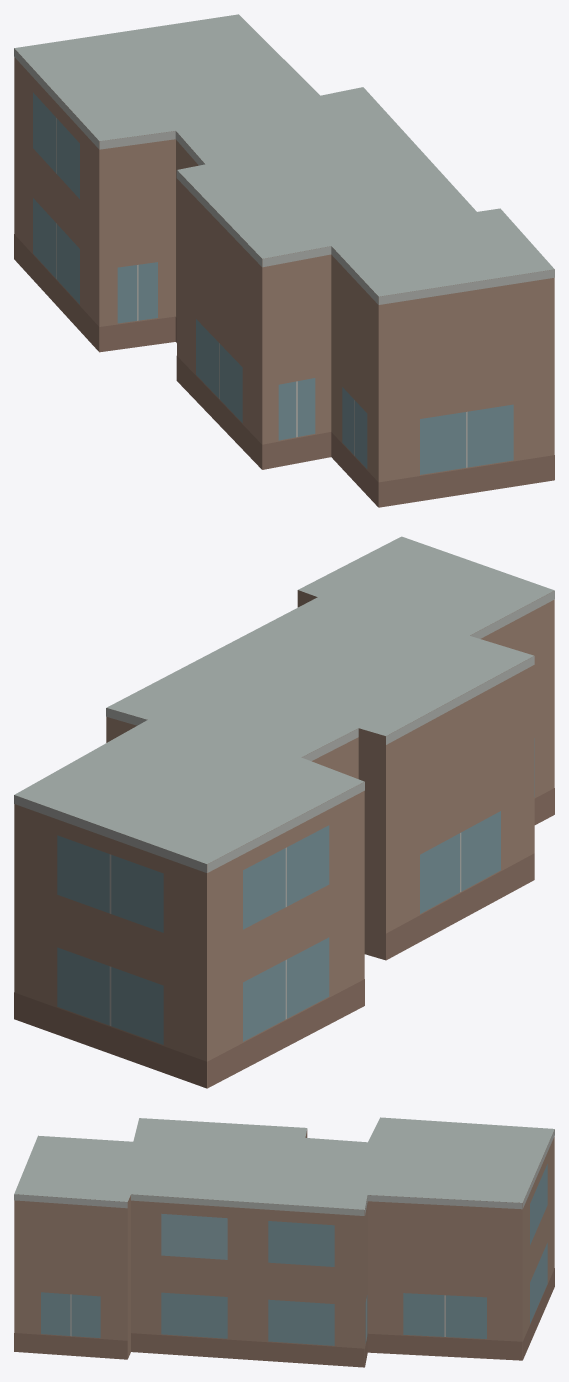
File: survey-upis-32824819.glb
The picture shows the model from 3 angles, top to bottom: view 1: azimuth 30°, elevation 25°; view 2: azimuth 150°, elevation 25°; view 3: azimuth 270°, elevation 25°; orthographic projection. The views are drawn at different scales.
Visible parts, largest first — view 1: survey-upis-32824819.tmp; view 2: survey-upis-32824819.tmp; view 3: survey-upis-32824819.tmp.
Part boxes in pixels (x1,y1,x2,y2): survey-upis-32824819.tmp: (14,14,554,507); survey-upis-32824819.tmp: (14,536,554,1088); survey-upis-32824819.tmp: (14,1117,554,1367).
Bounding box in the file's own units: 7.68 × 6.1 × 18.97.
